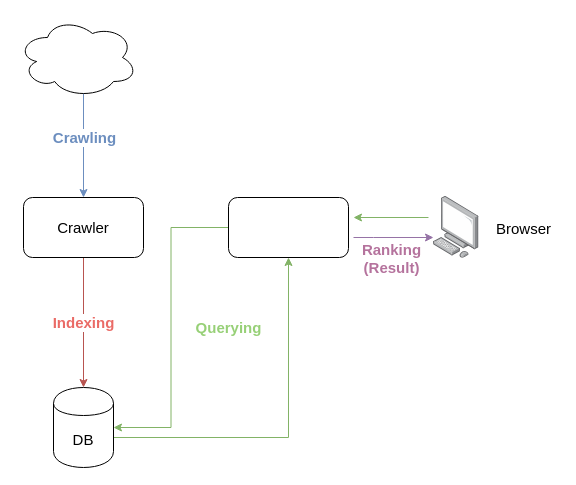
This 576x485 diagram has some shape labels left out. Here are the shapes that lost their labels. From the top down, the centre of each, then its label:
At point 77,57: "Web Pages".
At point 288,227: "Search Engine Server".
